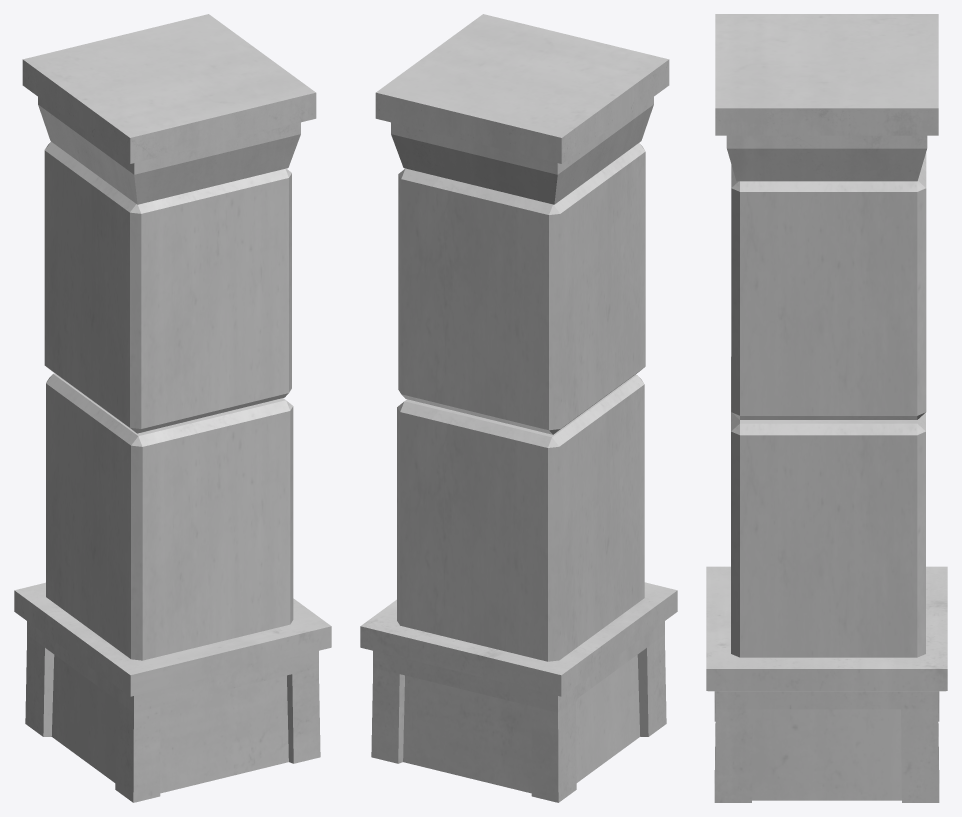
Rendered from Pillar_B.fbx.
The picture shows the model from 3 angles, left to right: view 1: azimuth 30°, elevation 25°; view 2: azimuth 150°, elevation 25°; view 3: azimuth 270°, elevation 25°; orthographic projection. The views are drawn at different scales.
Parts seen in each view (by area): view 1: Pillar_B; view 2: Pillar_B; view 3: Pillar_B.
Boxes of the visible parts, box(x1,y1,x2,y2) form: Pillar_B: box(14, 14, 331, 802); Pillar_B: box(360, 14, 677, 802); Pillar_B: box(706, 14, 947, 802).
Bounding box in the file's own units: 82.58 × 262 × 82.58.
Materials: 1 (1 with a texture image).
